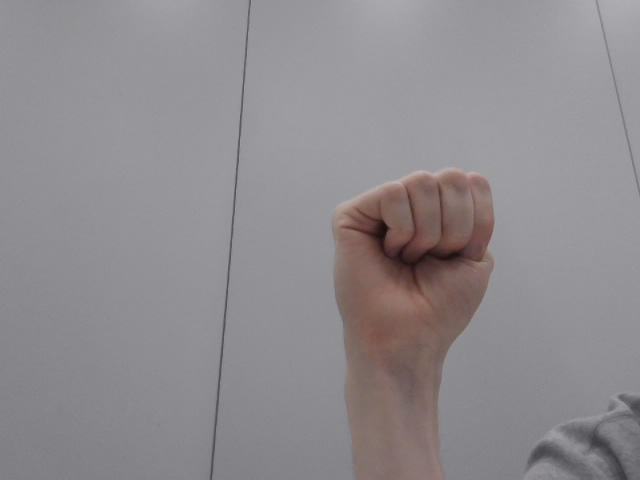down: (300, 156, 519, 364)
